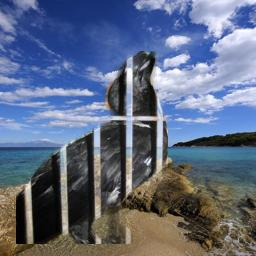Crow: (16, 51, 168, 244)
